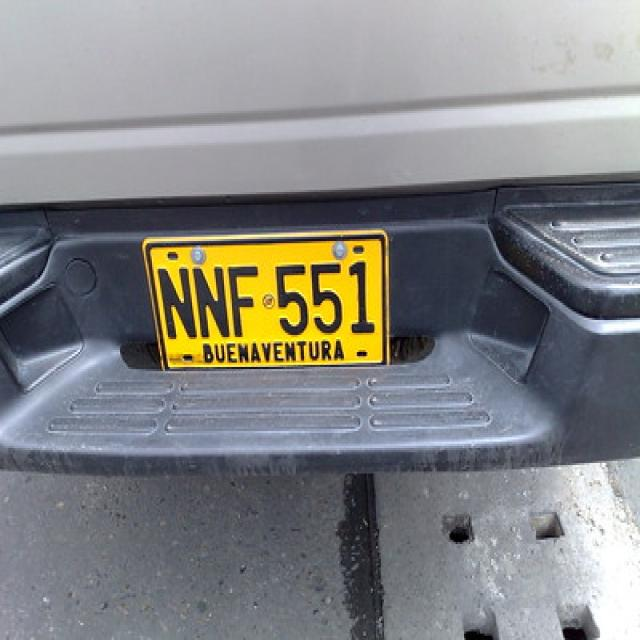placa_carro: (137, 227, 408, 383)
